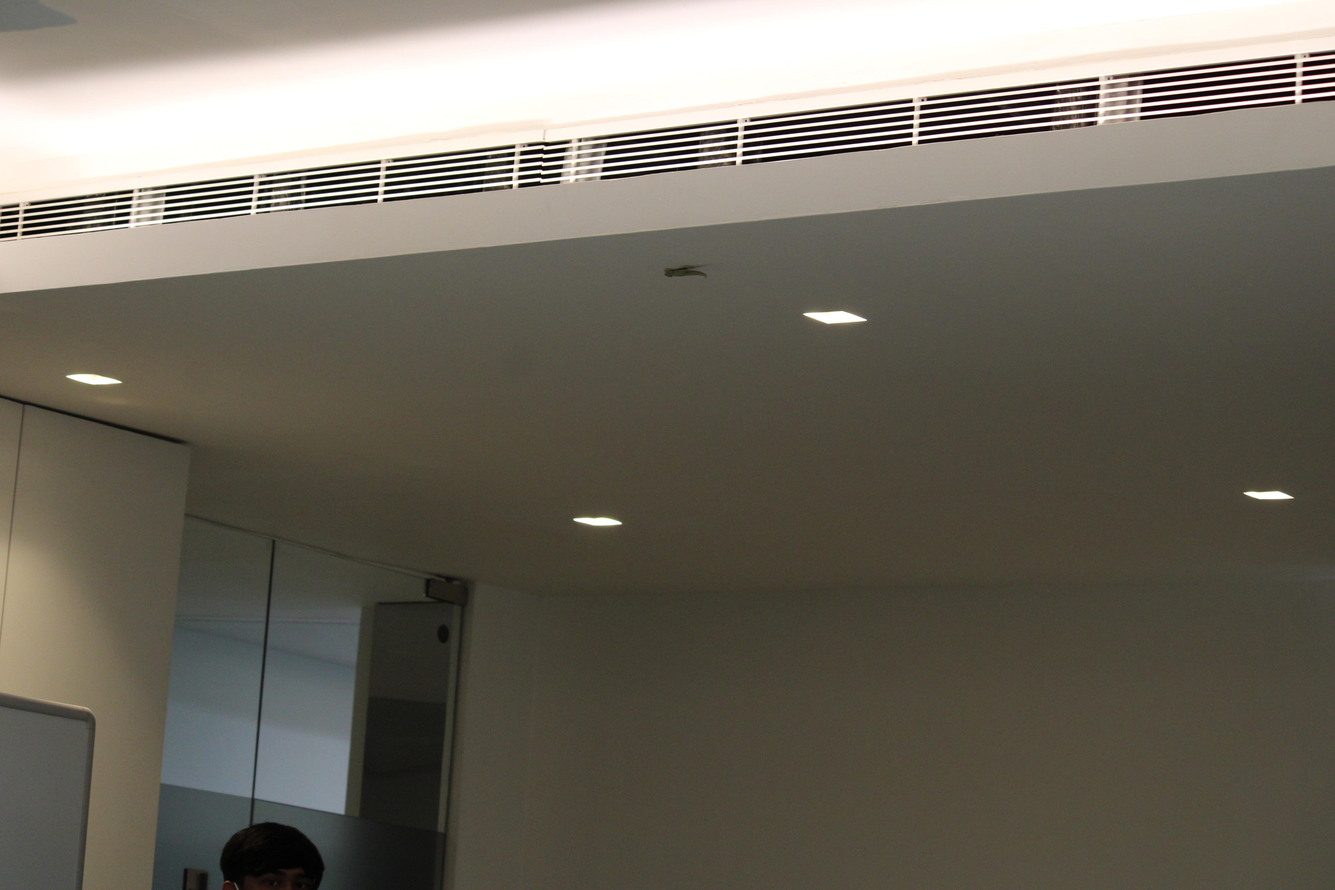lizard: (655, 254, 708, 290)
